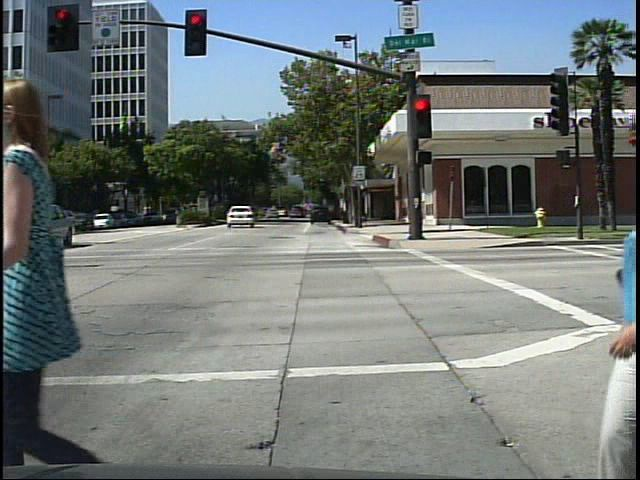person: (0, 64, 135, 467)
